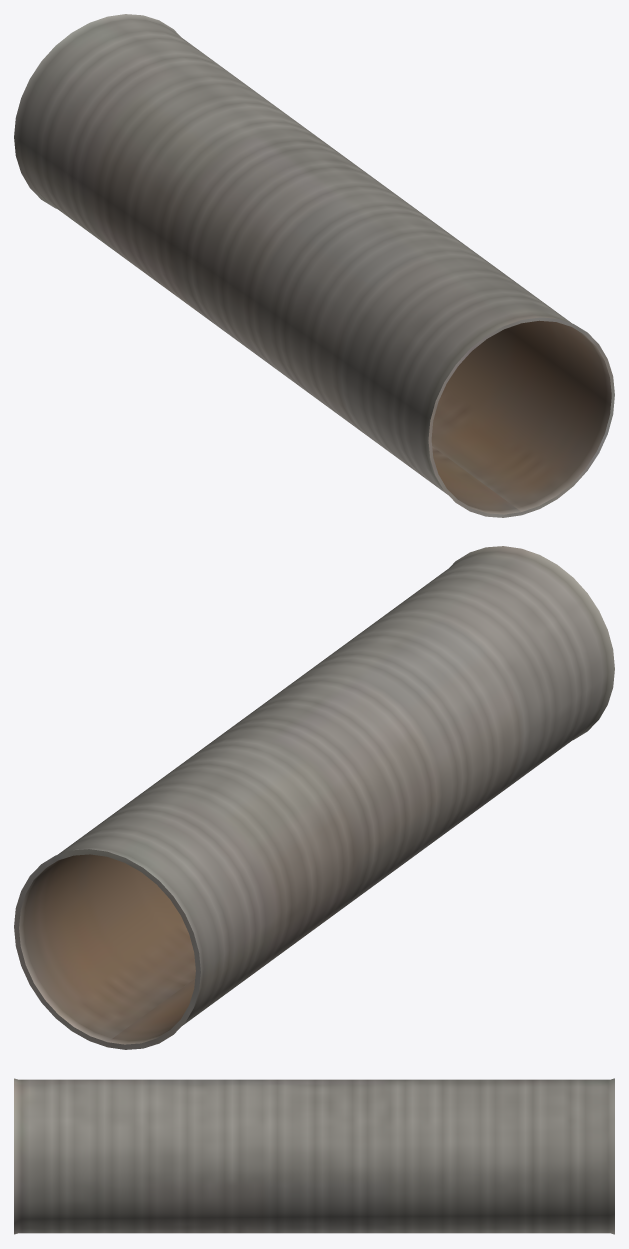
The model's file is duct.glb.
3 views of the same model, one above another, from view 1: azimuth 30°, elevation 25°; view 2: azimuth 150°, elevation 25°; view 3: azimuth 270°, elevation 25° (orthographic). The views are drawn at different scales.
Visible parts, largest first — view 1: duct; view 2: duct; view 3: duct.
Part boxes in pixels (box(x1,y1,x2,y2)): duct: box(14, 14, 614, 517); duct: box(14, 546, 614, 1049); duct: box(14, 1078, 614, 1234).
Bounding box in the file's own units: 0.3705 × 0.3707 × 1.42.
1 material, 1 textured.
